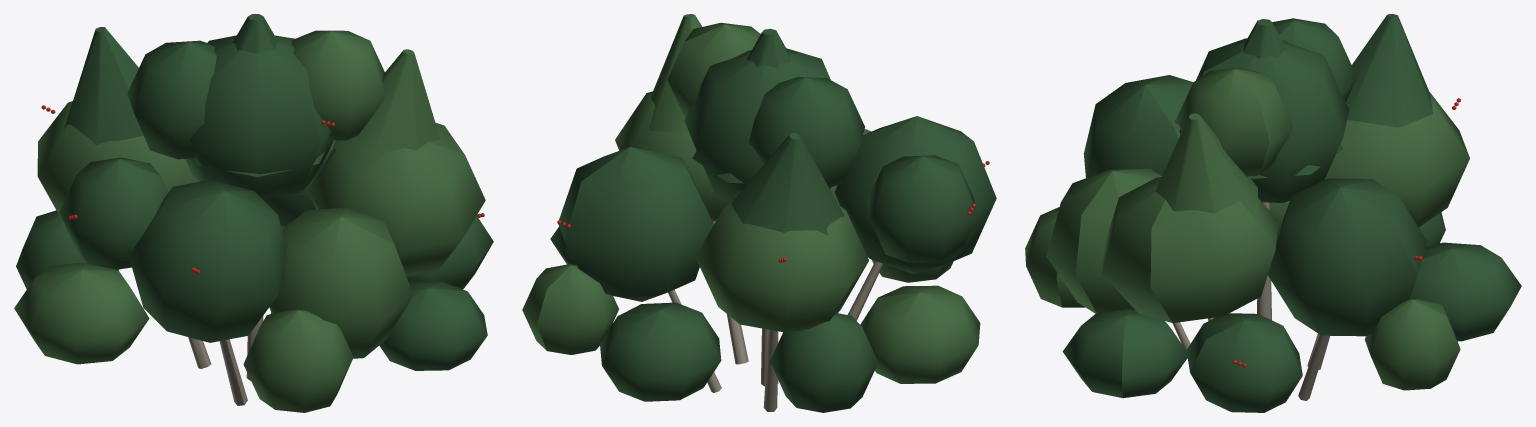
Rendered from thicket-holly.glb.
3 renders of one model, left to right at view 1: azimuth 30°, elevation 25°; view 2: azimuth 150°, elevation 25°; view 3: azimuth 270°, elevation 25°, orthographic. The views are drawn at different scales.
Visible parts, largest first — view 1: berry-01; view 2: berry-01; view 3: berry-01.
Boxes of the visible parts, bbox=[...] form: berry-01: bbox=[14, 14, 493, 412]; berry-01: bbox=[522, 14, 996, 412]; berry-01: bbox=[1025, 14, 1521, 412].
Bounding box in the file's own units: 2.56 × 2.01 × 2.51.
